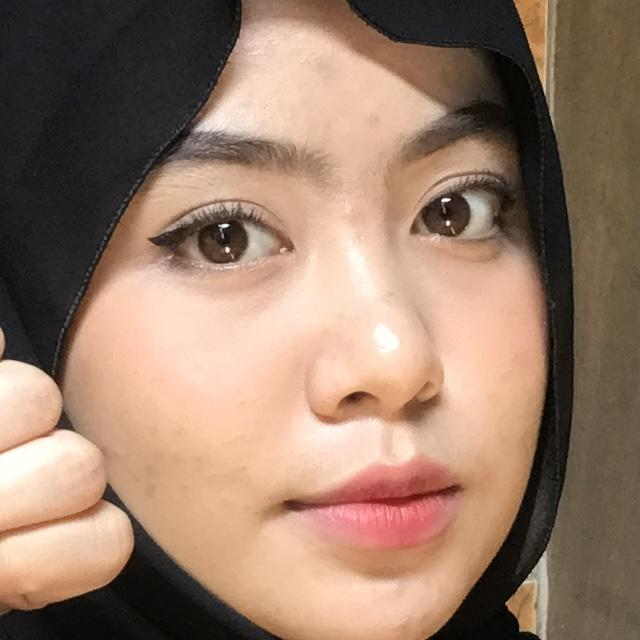sedih: (0, 136, 415, 640)
